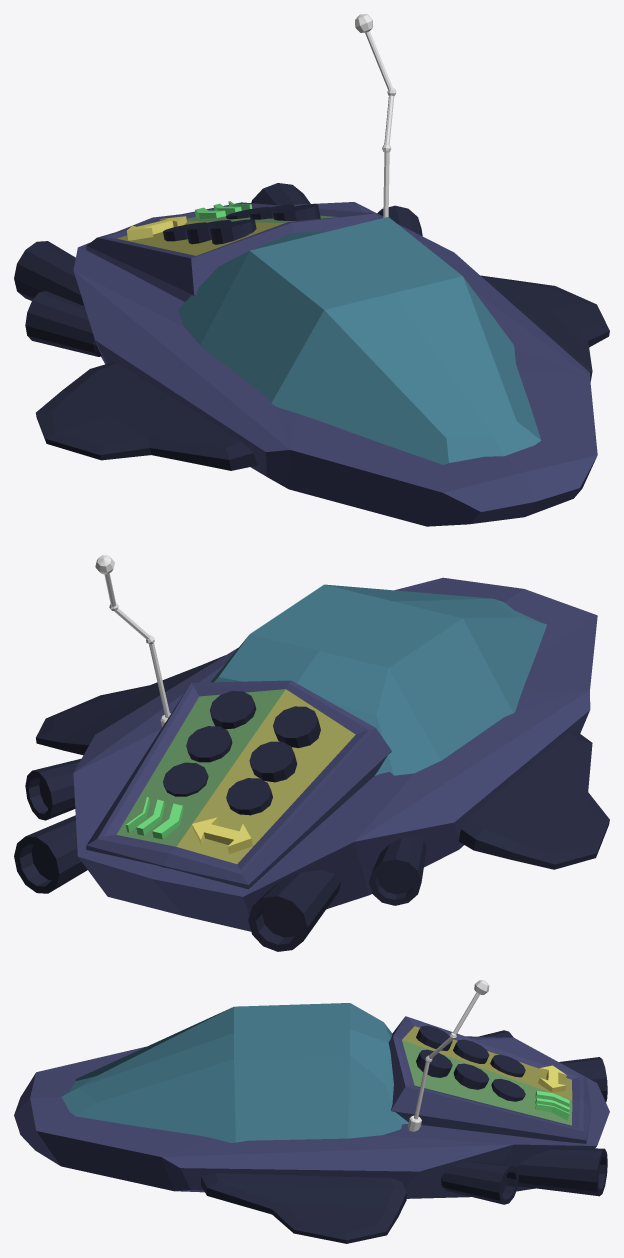
Rendered from mockupCycleEngine_1.3.fbx.
3 renders of one model, top to bottom at view 1: azimuth 30°, elevation 25°; view 2: azimuth 150°, elevation 25°; view 3: azimuth 270°, elevation 25°, orthographic. The views are drawn at different scales.
Parts seen in each view (by area): view 1: cockpit, Base, Wings.001, Back, Rockets, Wings, Holders, Sphere.002; view 2: Base, cockpit, Back, Rockets, Wings.001, Holders, Wings, Sphere.002; view 3: cockpit, Base, Back, Wings, Rockets, Holders, Sphere.002.
Part boxes in pixels (x1,y1,x2,y2): cockpit: [178, 217, 541, 464]; Base: [73, 202, 597, 526]; Wings.001: [36, 362, 257, 470]; Back: [86, 201, 378, 301]; Rockets: [14, 183, 422, 356]; Wings: [481, 275, 609, 381]; Holders: [163, 204, 320, 244]; Sphere.002: [355, 14, 396, 217]; Base: [73, 577, 597, 931]; cockpit: [210, 584, 547, 775]; Back: [86, 680, 391, 889]; Rockets: [14, 758, 426, 951]; Wings.001: [458, 730, 609, 869]; Holders: [163, 691, 320, 815]; Wings: [36, 655, 225, 755]; Sphere.002: [95, 555, 170, 727]; cockpit: [61, 1003, 408, 1142]; Base: [14, 1036, 609, 1198]; Back: [388, 1016, 591, 1143]; Wings: [201, 1173, 406, 1243]; Rockets: [441, 1030, 607, 1204]; Holders: [416, 1025, 525, 1101]; Sphere.002: [407, 980, 489, 1131].
Size of the model in its own units: 610 by 308 by 734.
